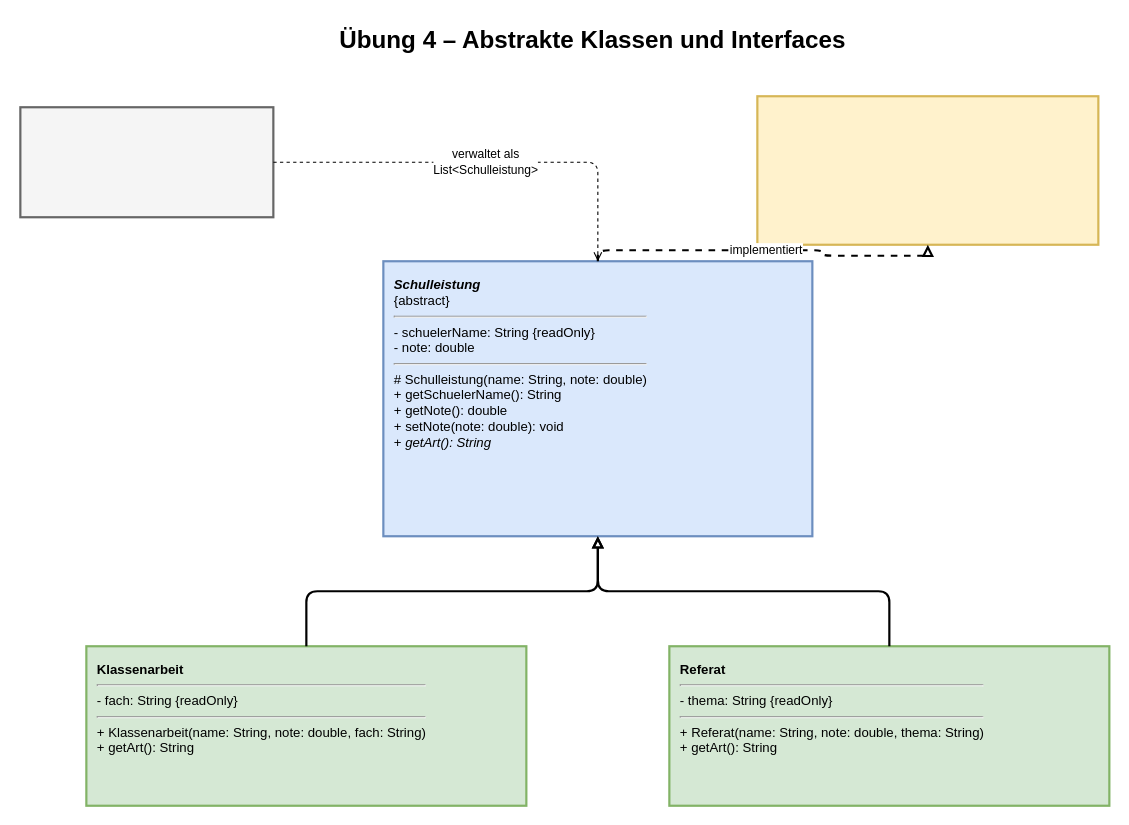
Some shapes in this 1129 by 825 pixel diagram are drawn without their labels. Each missing label, with the centre of its shape:
Uebung04 + main(args: String[]): void: point 146,162
«interface» Benotbar + getNote(): double + istBestanden(): boolean {default}: point 927,170
